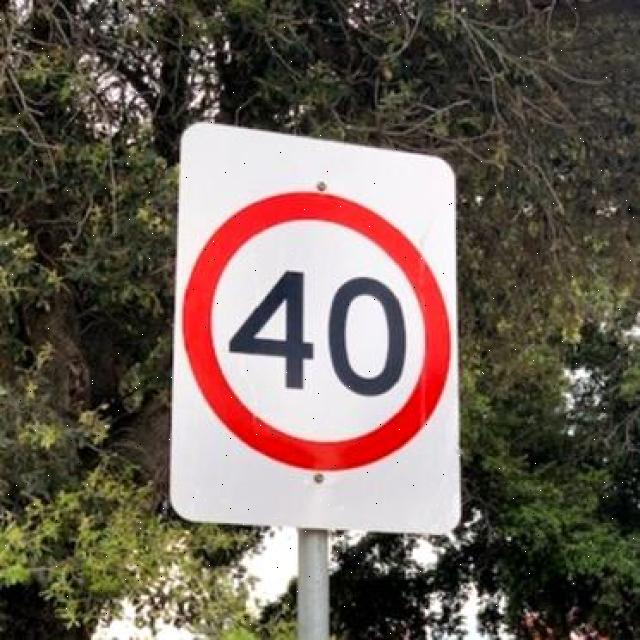speed limit 40: (182, 191, 453, 470)
